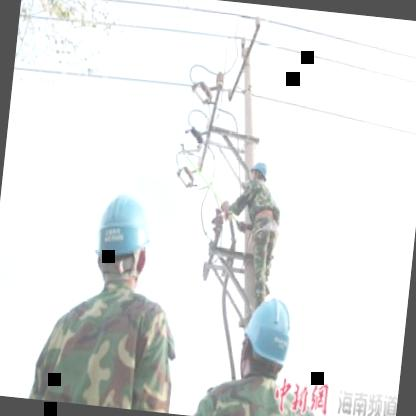helmet: (86, 184, 162, 298), (236, 284, 302, 390), (247, 154, 272, 188)
